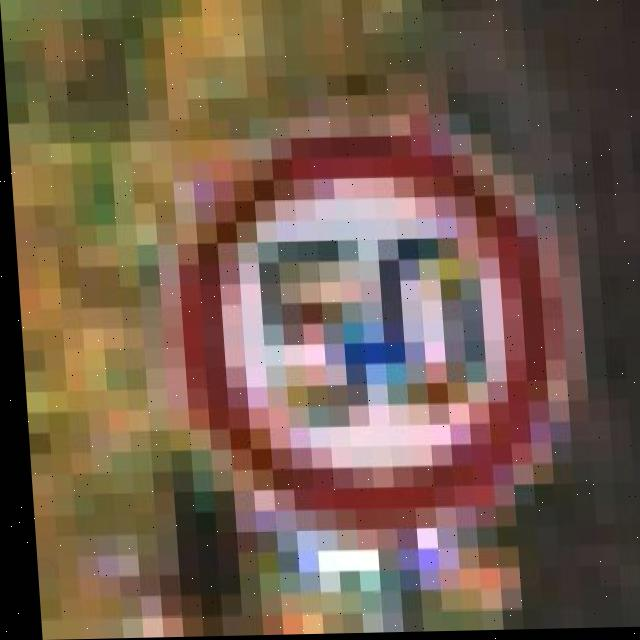Speed limit 50: (149, 108, 576, 631)
